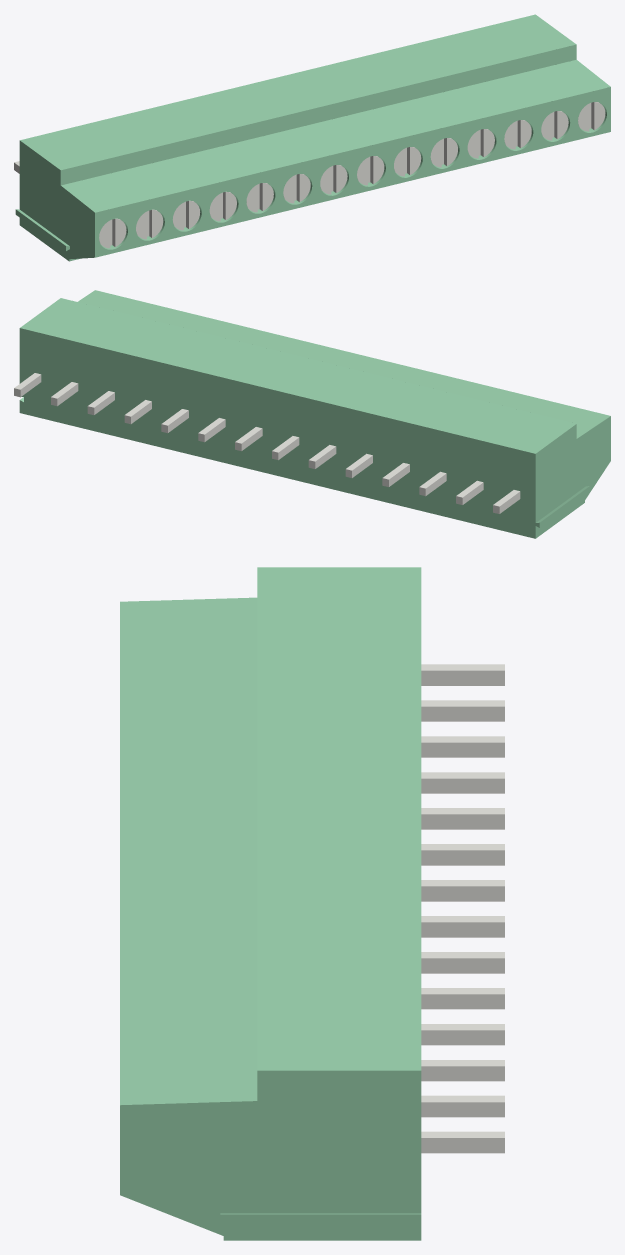
File: TerminalBlock_Phoenix_MKDS-3-14-5.08_1x14_P5.08mm_Horizontal.glb
3 views of the same model, one above another, from view 1: azimuth 30°, elevation 25°; view 2: azimuth 150°, elevation 25°; view 3: azimuth 270°, elevation 25° (orthographic). The views are drawn at different scales.
Visible parts, largest first — view 1: Shape_IndexedFaceSet.005, Shape_IndexedFaceSet.003, Shape_IndexedFaceSet.002, Shape_IndexedFaceSet.004, Shape_IndexedFaceSet; view 2: Shape_IndexedFaceSet.006, Shape_IndexedFaceSet.005, Shape_IndexedFaceSet.003, Shape_IndexedFaceSet; view 3: Shape_IndexedFaceSet.005, Shape_IndexedFaceSet.003, Shape_IndexedFaceSet.012, Shape_IndexedFaceSet.034, Shape_IndexedFaceSet.038, Shape_IndexedFaceSet.042, Shape_IndexedFaceSet.046, Shape_IndexedFaceSet.050, Shape_IndexedFaceSet.054, Shape_IndexedFaceSet.058, Shape_IndexedFaceSet.062, Shape_IndexedFaceSet.066 (+6 smaller).
Part boxes in pixels (box(x1,y1,x2,y2)): Shape_IndexedFaceSet.005: box(20, 14, 576, 170); Shape_IndexedFaceSet.003: box(61, 59, 610, 212); Shape_IndexedFaceSet.002: box(95, 87, 610, 257); Shape_IndexedFaceSet.004: box(60, 44, 576, 185); Shape_IndexedFaceSet: box(19, 140, 94, 261); Shape_IndexedFaceSet.006: box(19, 328, 539, 538); Shape_IndexedFaceSet.005: box(20, 298, 576, 453); Shape_IndexedFaceSet.003: box(78, 290, 610, 438); Shape_IndexedFaceSet: box(535, 416, 610, 538); Shape_IndexedFaceSet.005: box(257, 567, 421, 1070); Shape_IndexedFaceSet.003: box(120, 597, 257, 1105); Shape_IndexedFaceSet.012: box(120, 1070, 421, 1240); Shape_IndexedFaceSet.034: box(421, 850, 504, 865); Shape_IndexedFaceSet.038: box(421, 886, 504, 901); Shape_IndexedFaceSet.042: box(421, 958, 504, 973); Shape_IndexedFaceSet.046: box(421, 922, 504, 937); Shape_IndexedFaceSet.050: box(421, 1102, 504, 1117); Shape_IndexedFaceSet.054: box(421, 1066, 504, 1081); Shape_IndexedFaceSet.058: box(421, 994, 504, 1009); Shape_IndexedFaceSet.062: box(421, 1030, 504, 1045); Shape_IndexedFaceSet.066: box(421, 814, 504, 829).
Size of the model in its own units: 28.22 by 4.41 by 9.06.
